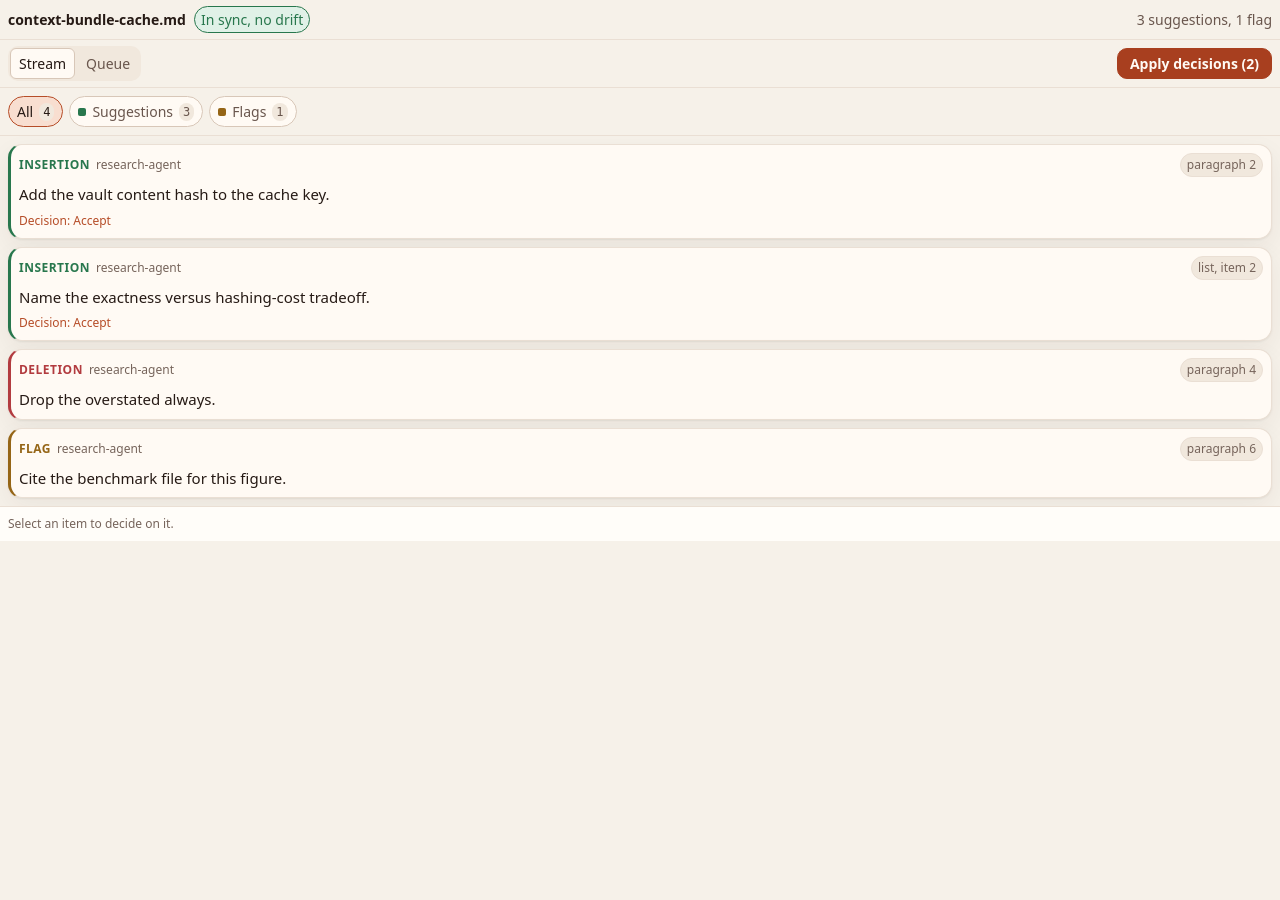
Test: ReviewPanel › explains a provider partial result instead of silently clearing its safe items
Expected: the text "Add the vault content hash to the cache key." is shown, x1=19 y1=184 x2=330 y2=204
What coordinates should you click on to do the following:
click the button "Apply decisions (2)"
I would click on:
 (1194, 64)
Its box is x1=1117 y1=48 x2=1272 y2=79.
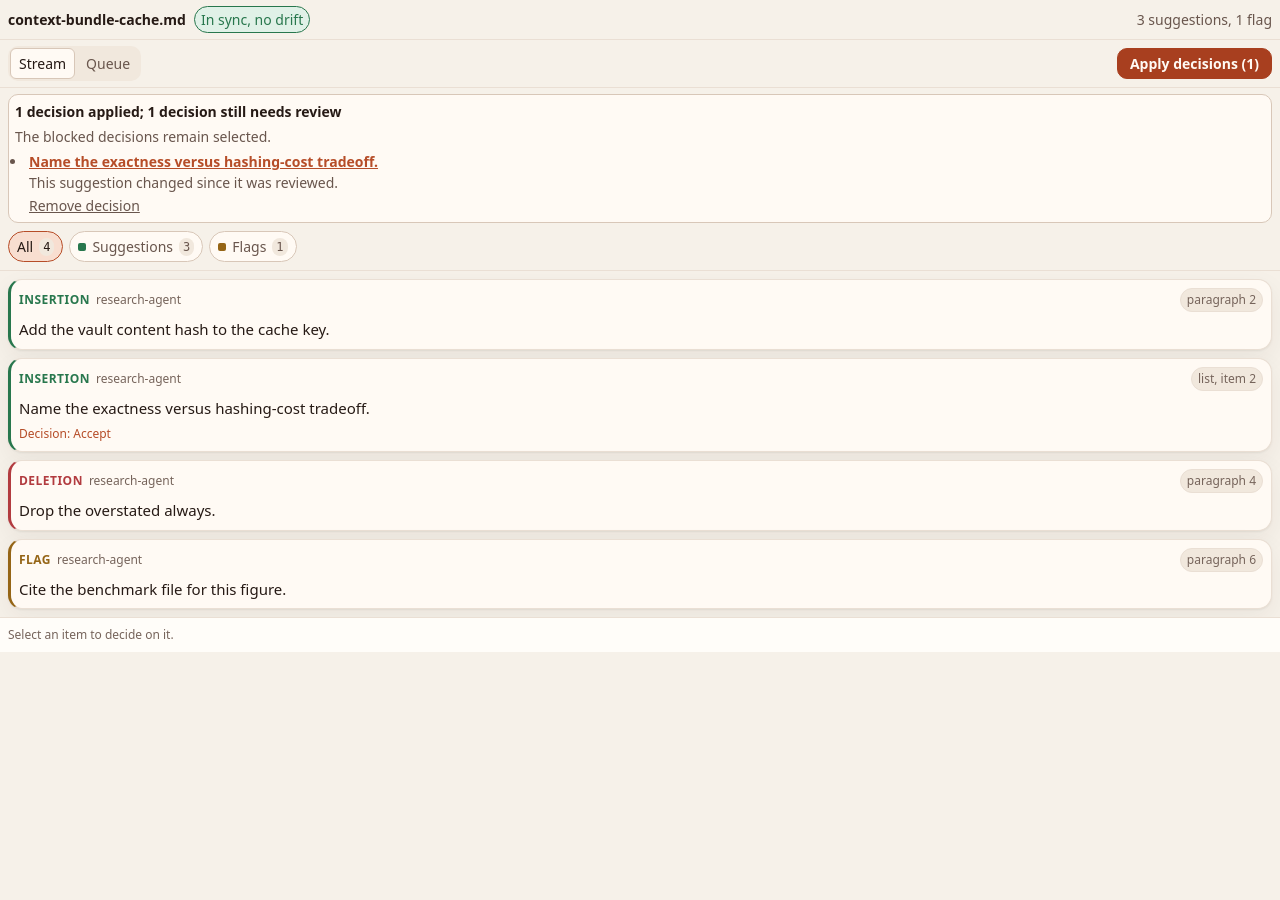
Expected: the text "1 decision applied; 1 decision still needs review" is shown, x1=15 y1=102 x2=342 y2=121
Expected: the text "The blocked decisions remain selected." is shown, x1=15 y1=127 x2=271 y2=146
